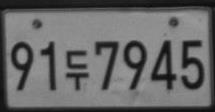1: (39, 40, 62, 91)
4: (150, 38, 177, 89)
5: (181, 40, 205, 90)
7: (94, 40, 119, 89)
9: (122, 39, 147, 90), (10, 40, 34, 91)
두: (65, 49, 90, 91)
